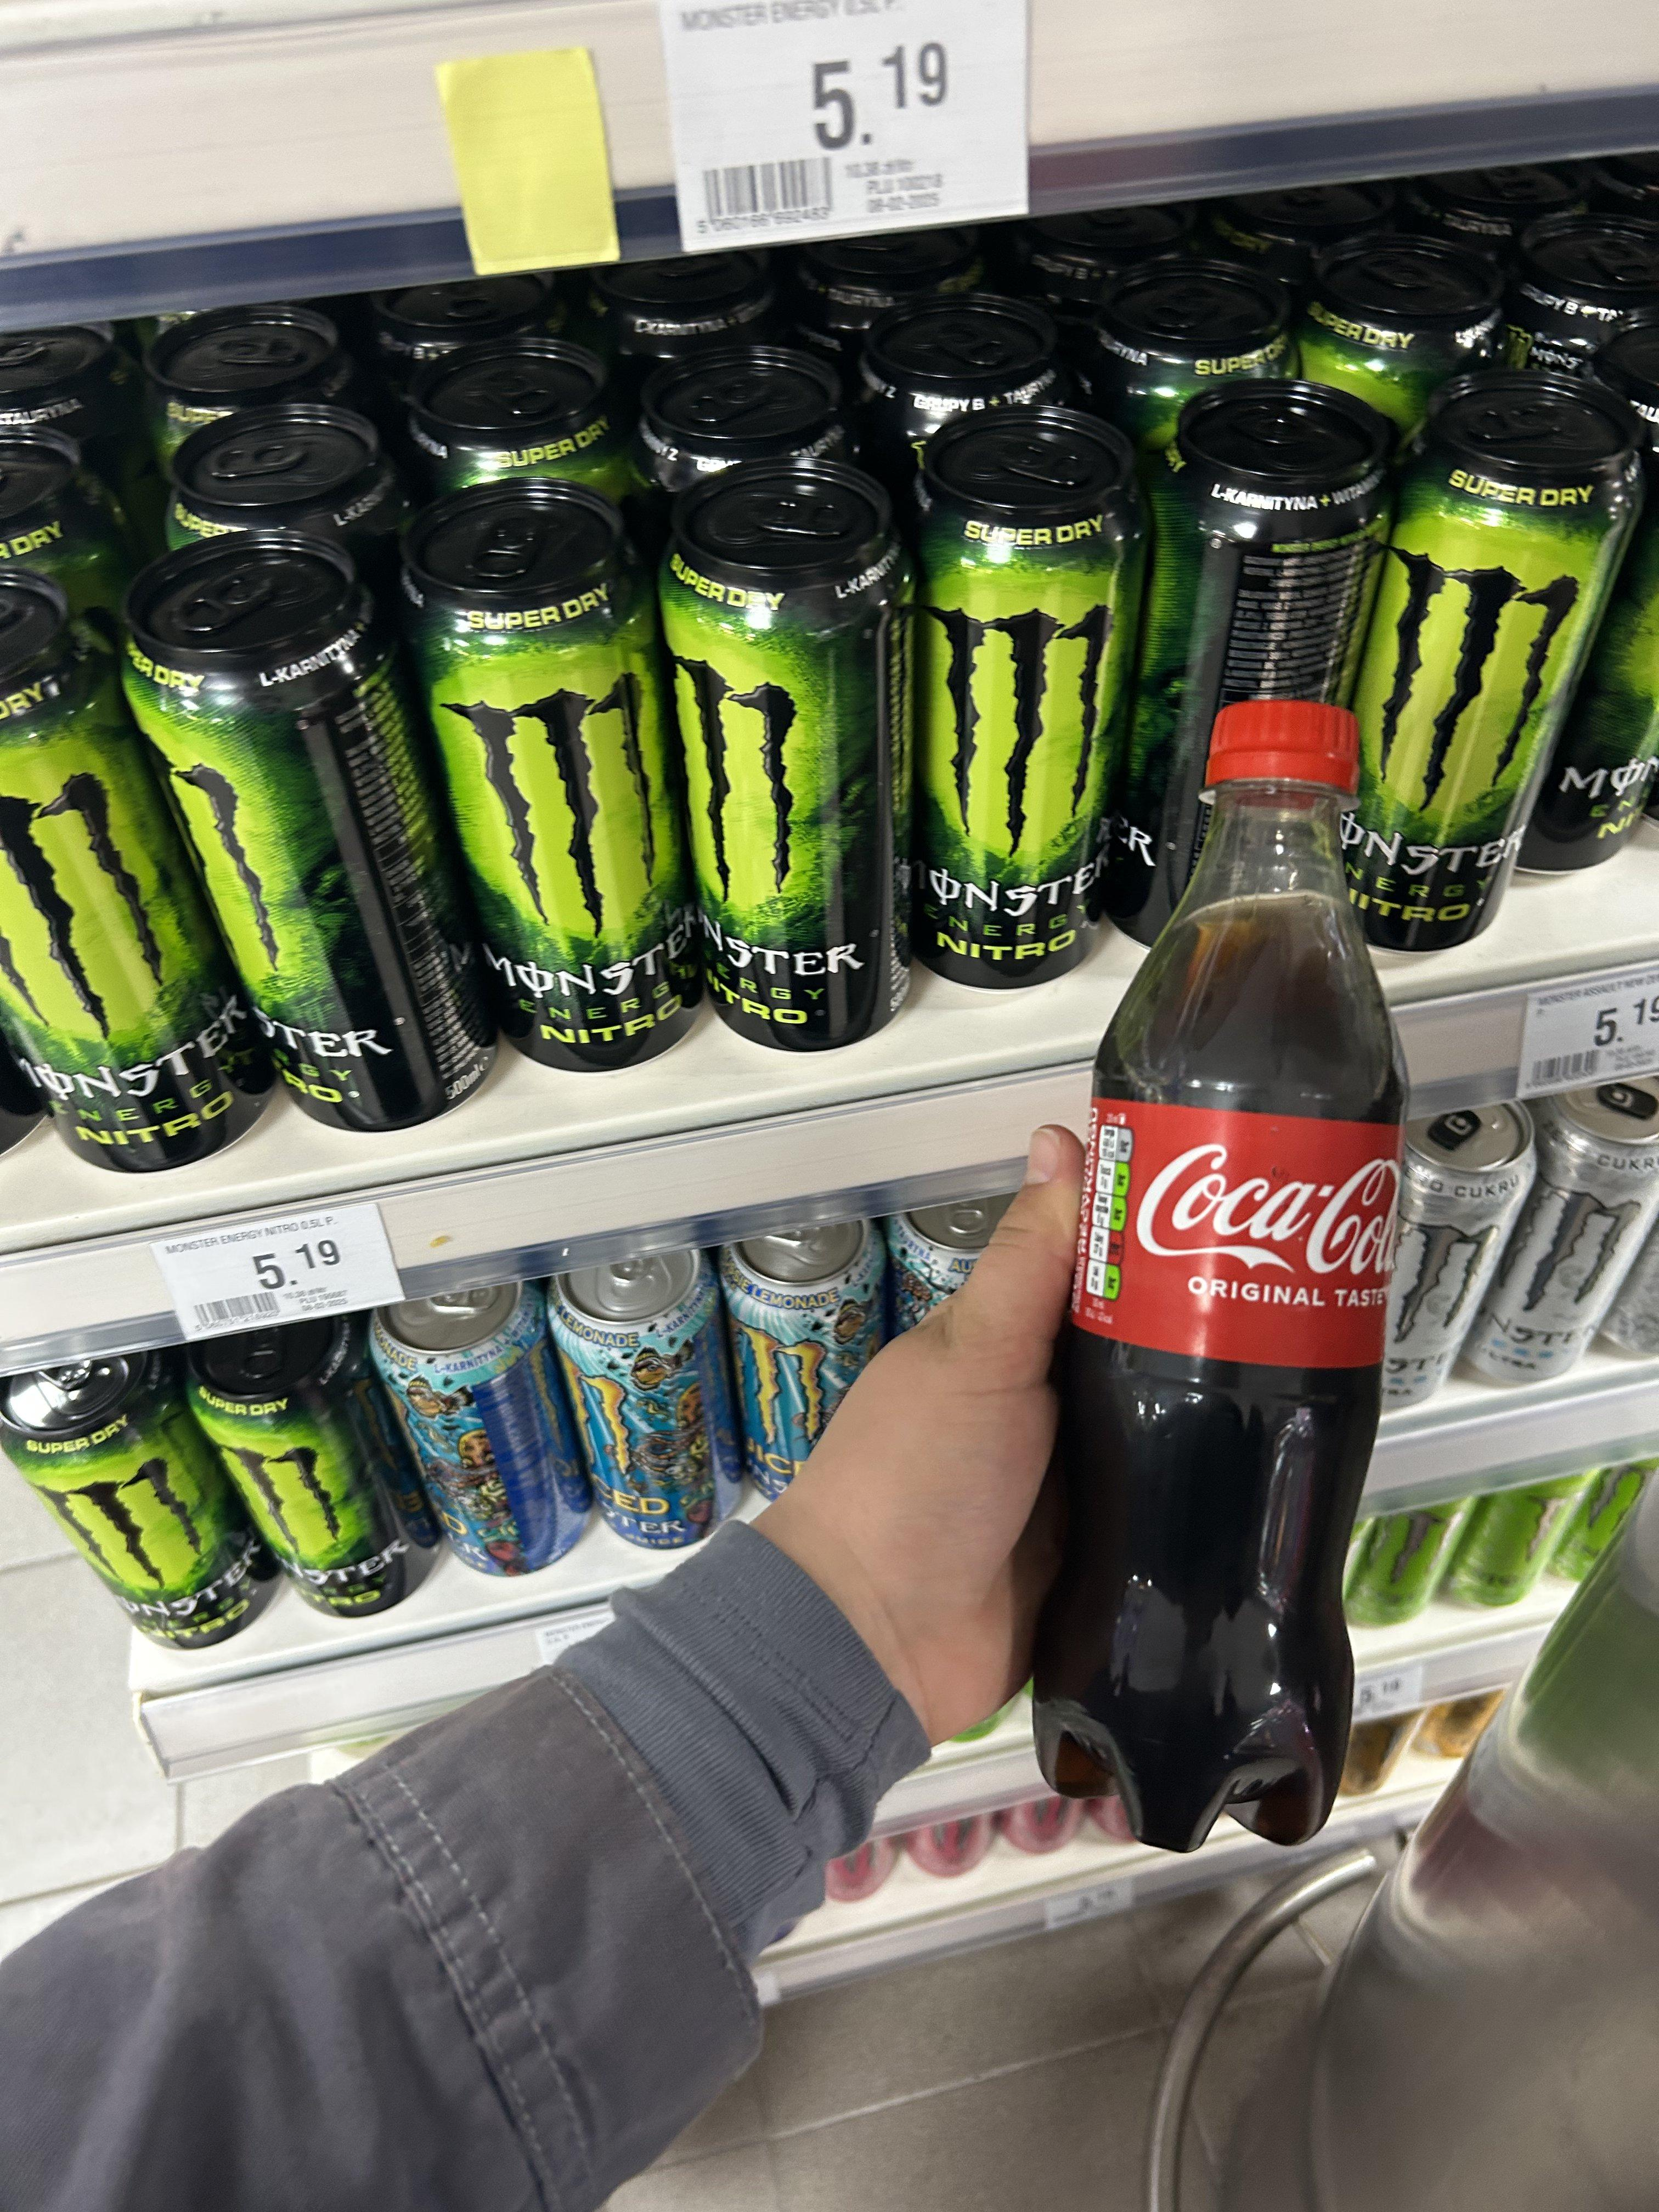Coca Cola: (1047, 695, 1380, 1881)
